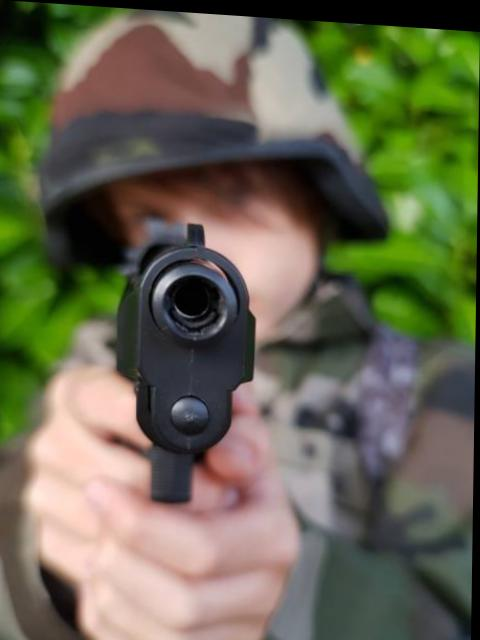other: (0, 1, 479, 640)
